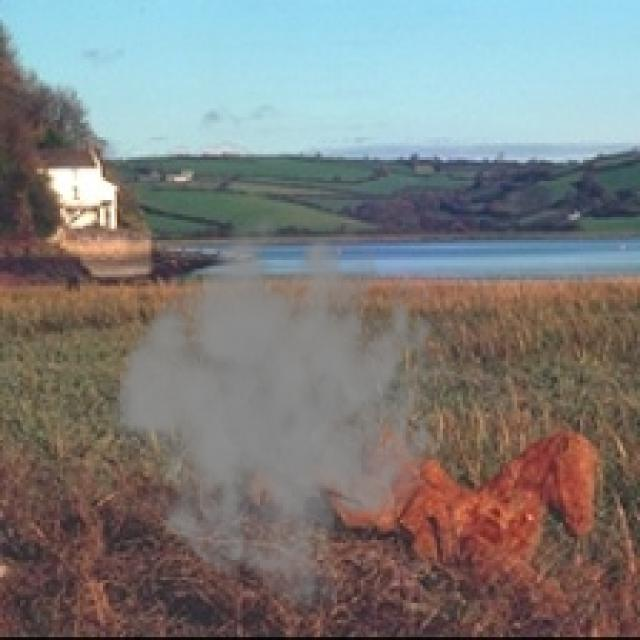smoke: (106, 197, 454, 617)
